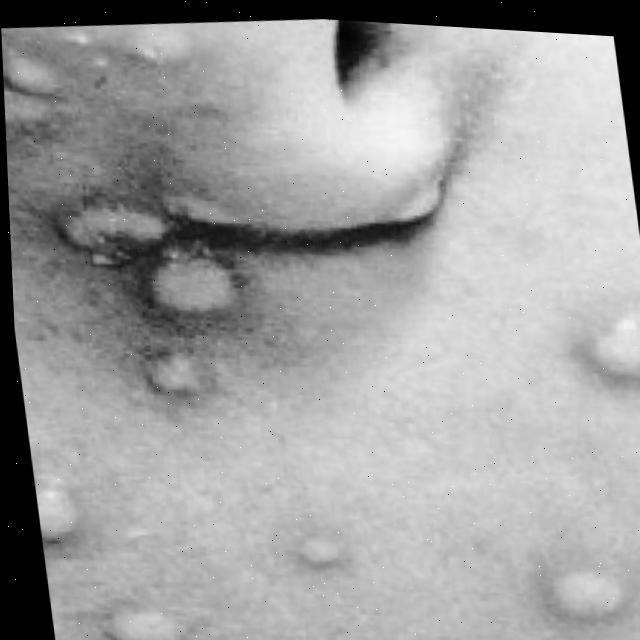Eczema: (69, 183, 251, 388), (550, 558, 633, 625), (590, 304, 640, 376), (290, 523, 344, 576), (118, 598, 180, 640), (40, 489, 78, 535)
